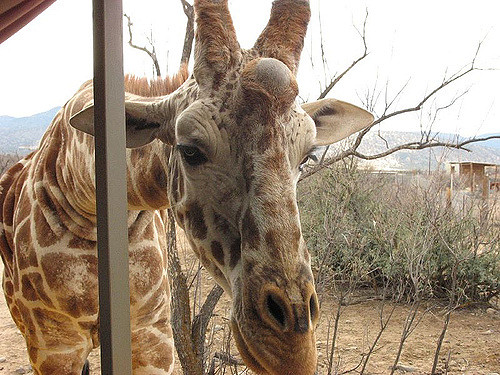giraffe: (1, 19, 394, 358)
